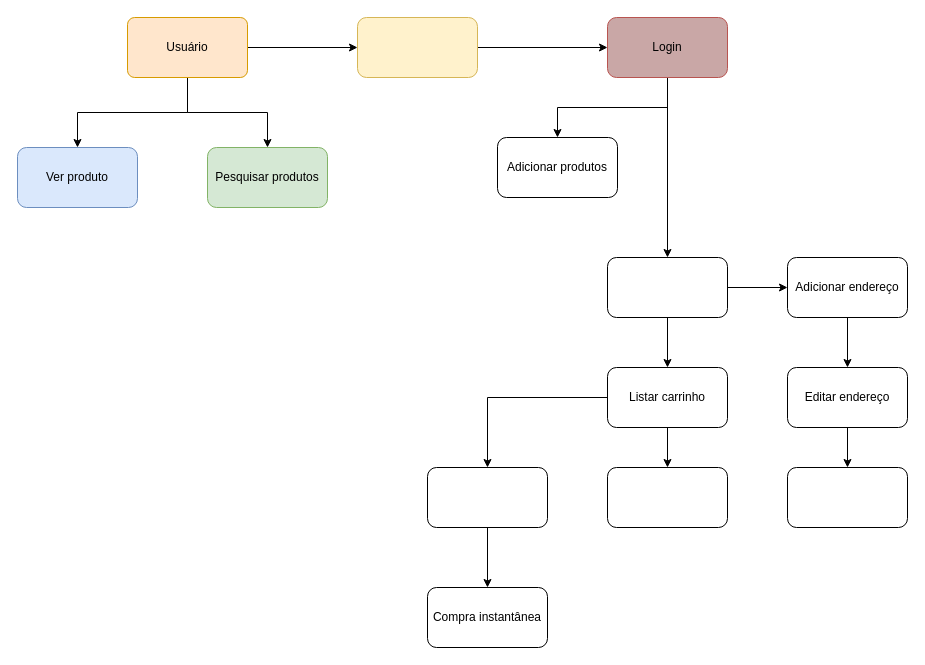
Image size: 925x665. Some labels were removed from this diagram. The shapes that lost their labels are listed below. From the top down, each one's box as (x1, y1, x2, y2) in pixels, then its label:
(356, 16, 478, 78): Cadastro de usuário
(606, 256, 728, 318): Adicionar ao carrinho
(426, 466, 548, 528): Checkout
(606, 466, 728, 528): Remover do carrinho
(786, 466, 908, 528): Deletar endereço
